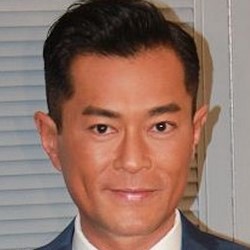unmask: (64, 85, 192, 235)
